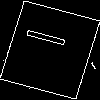I: (25, 25, 76, 52)
